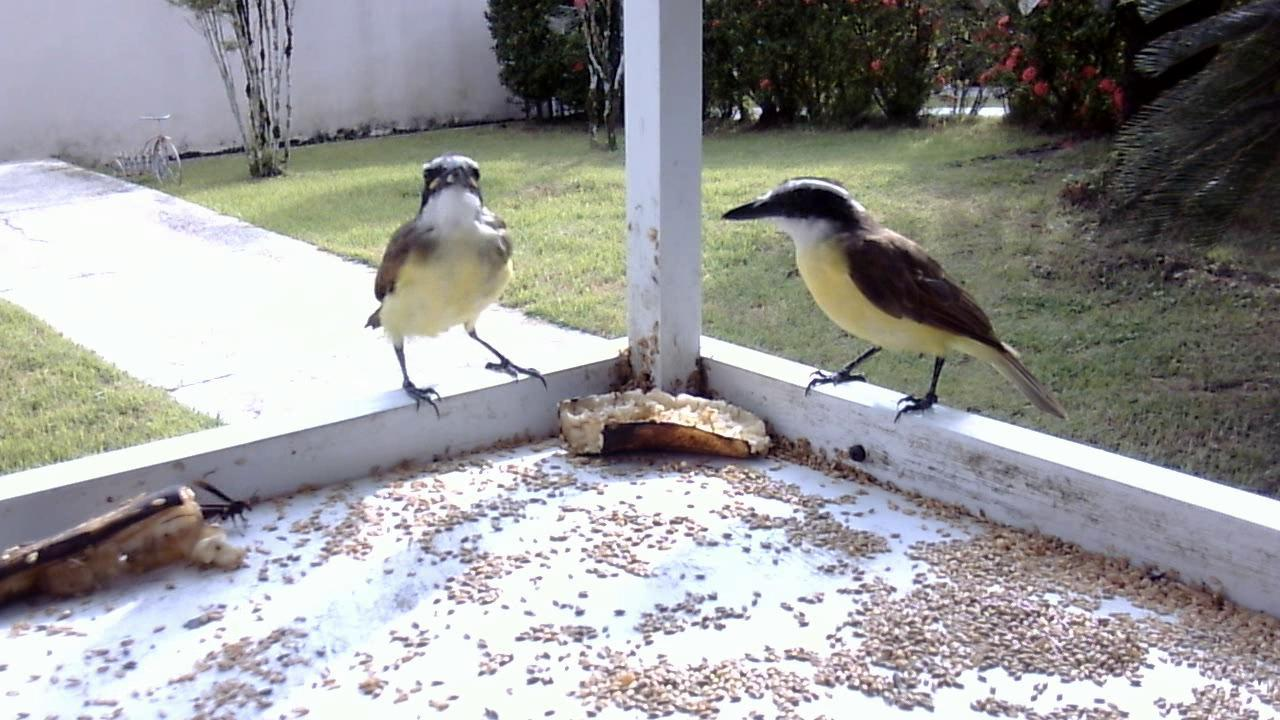bem_te_vi: (721, 170, 1078, 431), (354, 146, 546, 428)
